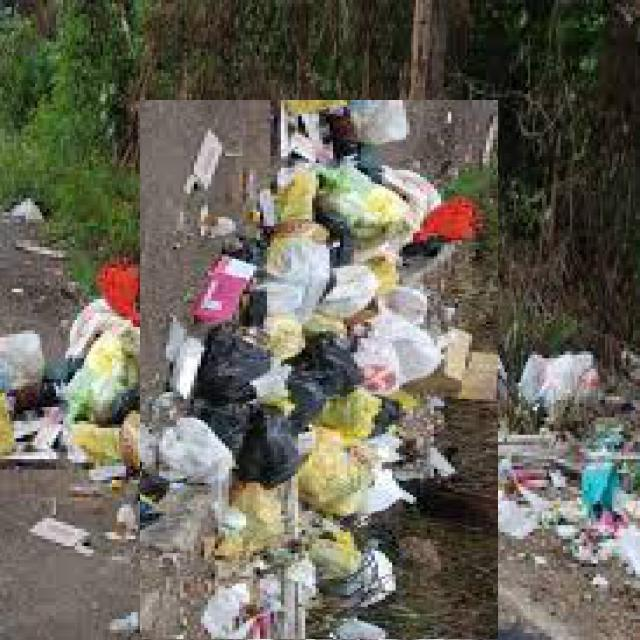Trashbag: (202, 322, 276, 407), (252, 419, 308, 490), (301, 339, 364, 398), (195, 399, 253, 456)
